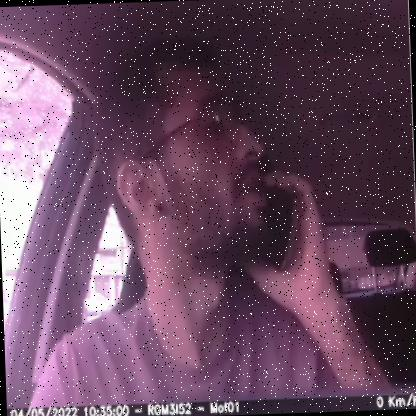phone: (236, 180, 316, 270)
